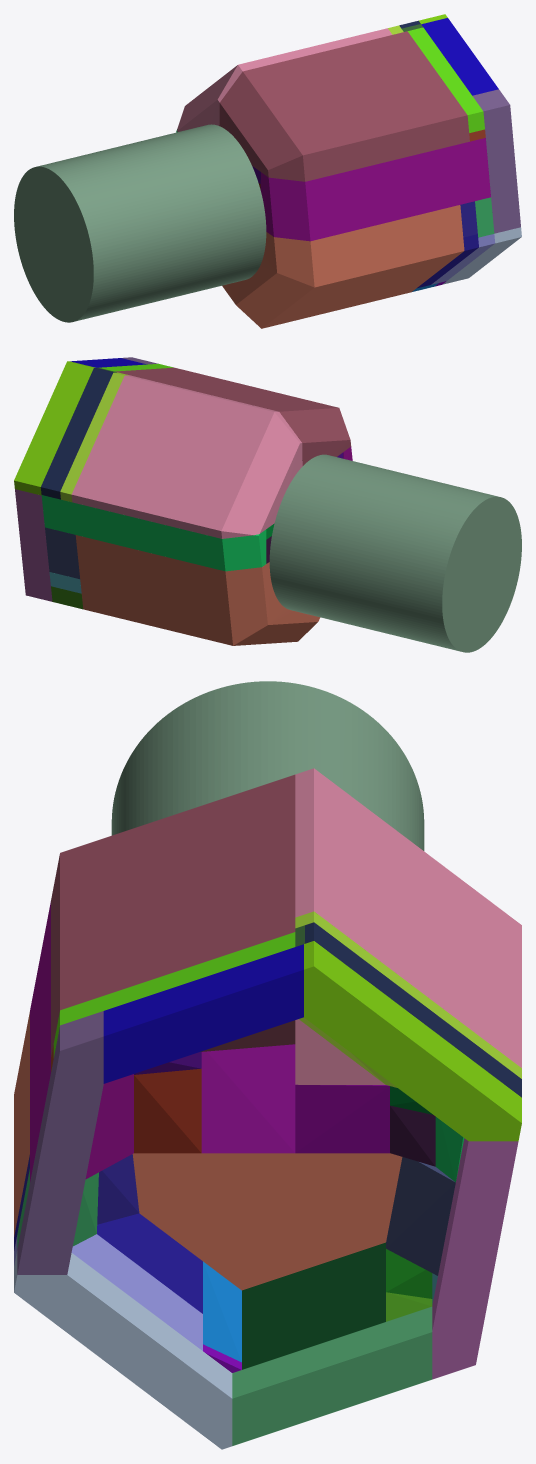
File: 5_canonical.obj
3 views of the same model, one above another, from view 1: azimuth 30°, elevation 25°; view 2: azimuth 150°, elevation 25°; view 3: azimuth 270°, elevation 25° (orthographic). The views are drawn at different scales.
Parts seen in each view (by area): view 1: geometry_0, geometry_13, geometry_9, geometry_14, geometry_1, geometry_24, geometry_5, geometry_17, geometry_6, geometry_10, geometry_20, geometry_12 (+1 smaller); view 2: geometry_0, geometry_24, geometry_9, geometry_23, geometry_13, geometry_4, geometry_7, geometry_21, geometry_34, geometry_16, geometry_30, geometry_5 (+1 smaller); view 3: geometry_13, geometry_24, geometry_9, geometry_0, geometry_4, geometry_6, geometry_3, geometry_5, geometry_1, geometry_7, geometry_25, geometry_22 (+16 smaller).
Part boxes in pixels (x1=…): geometry_0: x1=14, y1=124, x2=266, y2=322; geometry_13: x1=219, y1=31, x2=469, y2=181; geometry_9: x1=222, y1=205, x2=464, y2=328; geometry_14: x1=260, y1=138, x2=490, y2=241; geometry_1: x1=472, y1=89, x2=520, y2=233; geometry_24: x1=177, y1=28, x2=392, y2=131; geometry_5: x1=421, y1=18, x2=498, y2=95; geometry_17: x1=407, y1=27, x2=484, y2=132; geometry_6: x1=443, y1=227, x2=521, y2=284; geometry_10: x1=475, y1=197, x2=494, y2=237; geometry_20: x1=417, y1=234, x2=478, y2=288; geometry_12: x1=431, y1=234, x2=495, y2=284; geometry_0: x1=269, y1=454, x2=521, y2=652; geometry_24: x1=71, y1=375, x2=302, y2=538; geometry_9: x1=75, y1=535, x2=320, y2=645; geometry_23: x1=41, y1=495, x2=266, y2=571; geometry_13: x1=115, y1=367, x2=350, y2=465; geometry_4: x1=14, y1=361, x2=95, y2=495; geometry_7: x1=15, y1=489, x2=52, y2=601; geometry_21: x1=40, y1=368, x2=114, y2=499; geometry_34: x1=60, y1=372, x2=128, y2=502; geometry_16: x1=45, y1=527, x2=79, y2=579; geometry_30: x1=51, y1=586, x2=83, y2=609; geometry_5: x1=70, y1=358, x2=147, y2=367; geometry_13: x1=51, y1=774, x2=295, y2=1056; geometry_24: x1=295, y1=768, x2=521, y2=1084; geometry_9: x1=14, y1=1012, x2=402, y2=1290; geometry_0: x1=111, y1=681, x2=424, y2=850; geometry_4: x1=304, y1=941, x2=521, y2=1141; geometry_6: x1=14, y1=1251, x2=232, y2=1449; geometry_3: x1=232, y1=1306, x2=432, y2=1445; geometry_5: x1=103, y1=944, x2=303, y2=1083; geometry_1: x1=17, y1=1011, x2=103, y2=1274; geometry_7: x1=432, y1=1138, x2=518, y2=1379; geometry_25: x1=242, y1=1242, x2=385, y2=1369; geometry_22: x1=201, y1=1044, x2=295, y2=1153.
Size of the model in its own units: 0.035 by 0.0205 by 0.0195.
